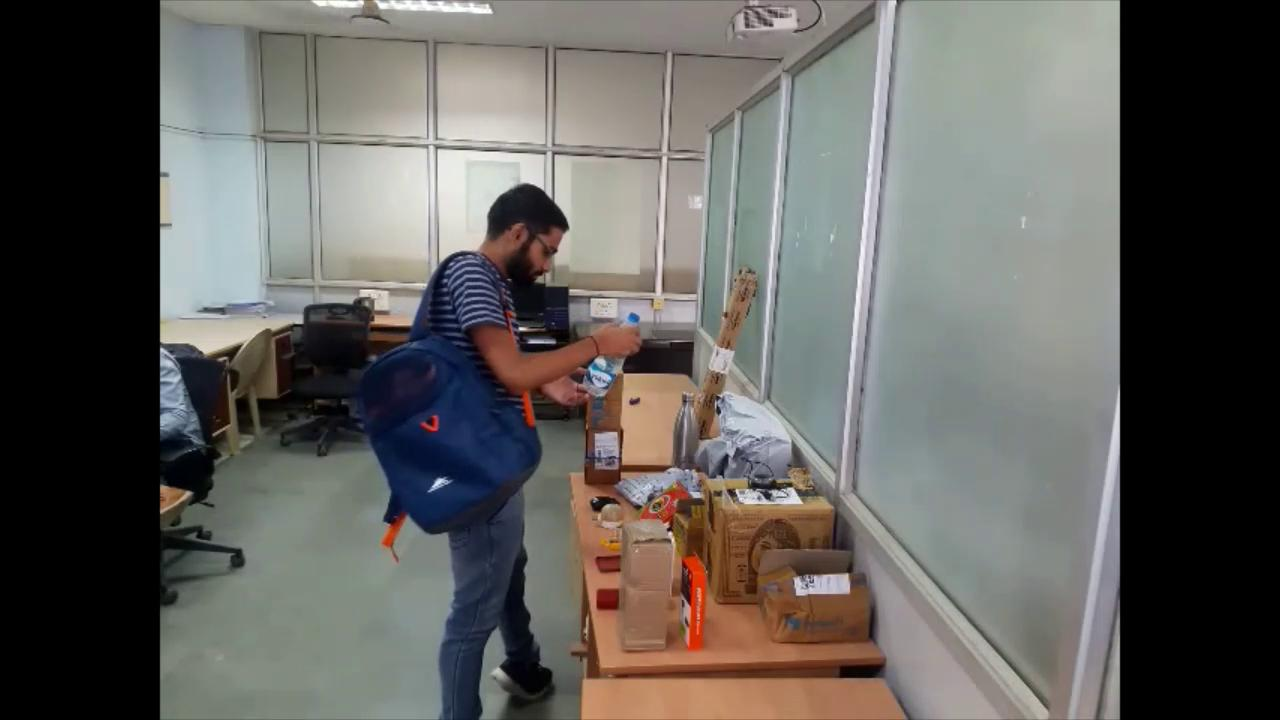Normal: (349, 168, 646, 720)
